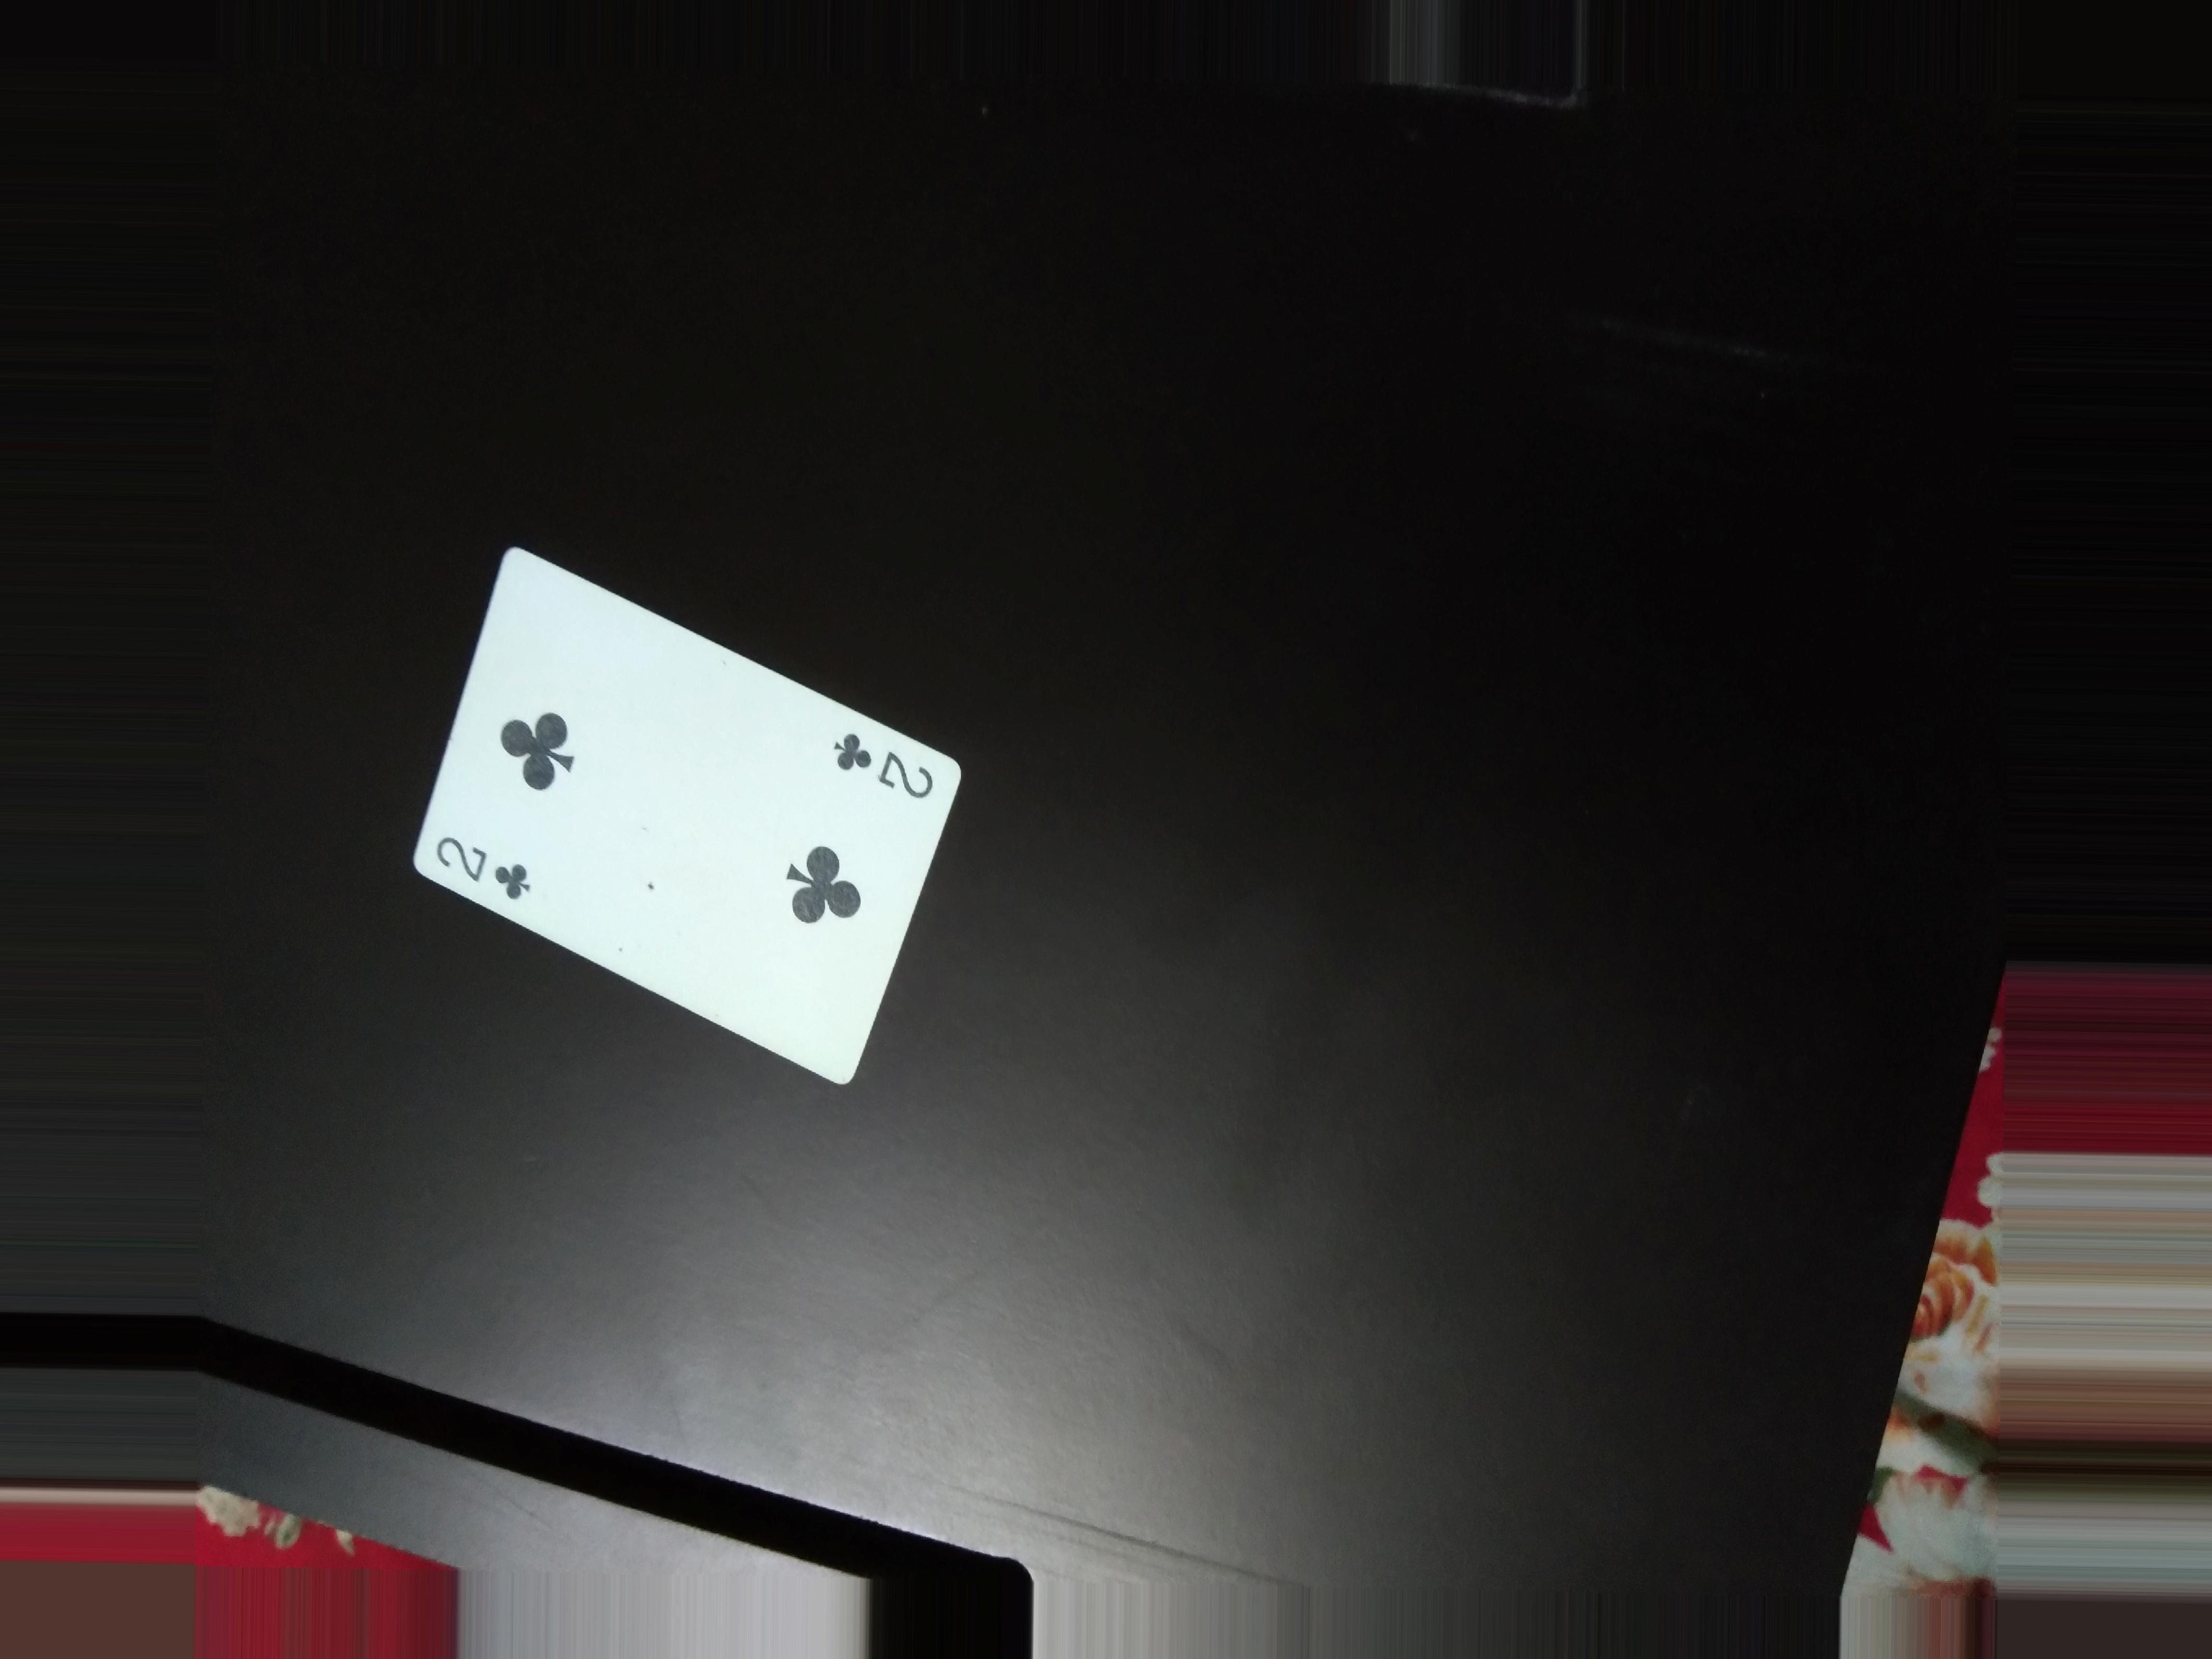2C: (434, 821, 554, 913)
